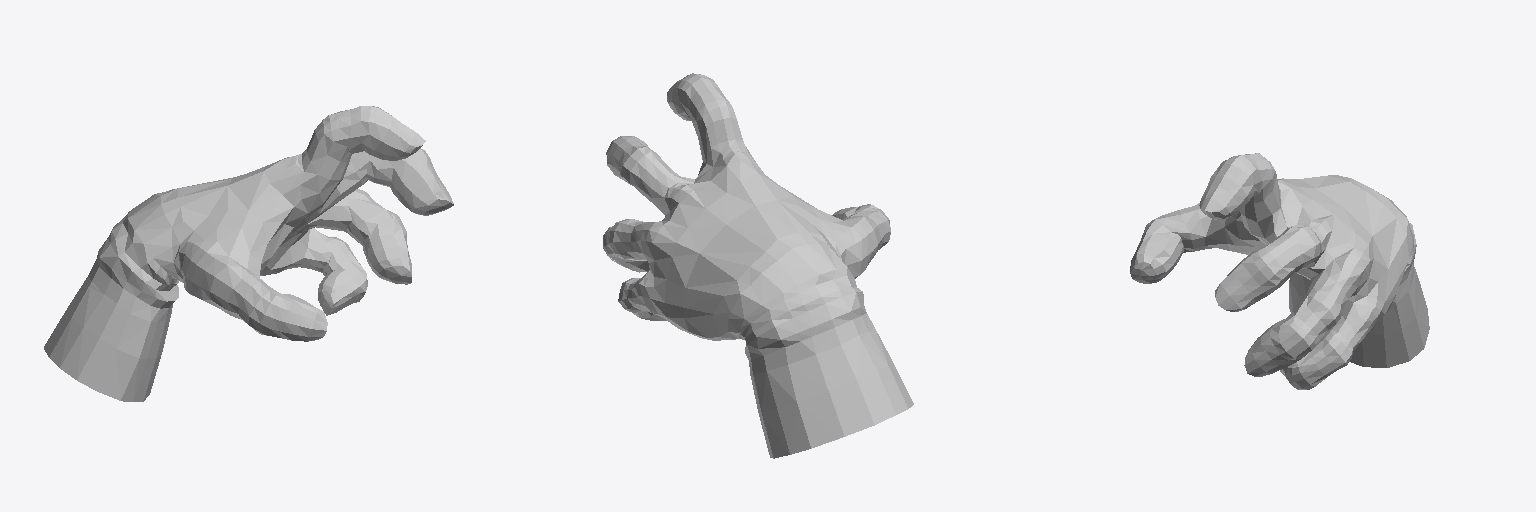
File: Crazy Hand.obj
3 renders of one model, left to right at view 1: azimuth 30°, elevation 25°; view 2: azimuth 150°, elevation 25°; view 3: azimuth 270°, elevation 25°, orthographic.
Visible parts, largest first — view 1: polygon1, polygon2, polygon3, polygon0; view 2: polygon2, polygon1, polygon3, polygon0; view 3: polygon1, polygon2, polygon0, polygon3.
Boxes of the visible parts, x1,y1,x2,y2 form: polygon1: [96, 106, 453, 341]; polygon2: [123, 156, 319, 284]; polygon3: [49, 260, 172, 401]; polygon0: [44, 277, 170, 399]; polygon2: [635, 151, 854, 322]; polygon1: [603, 73, 890, 359]; polygon3: [749, 313, 913, 458]; polygon0: [755, 328, 895, 458]; polygon1: [1130, 153, 1416, 389]; polygon2: [1231, 175, 1413, 321]; polygon0: [1350, 274, 1429, 367]; polygon3: [1289, 262, 1429, 367].
Bounding box in the file's own units: 15.61 × 12.68 × 12.03.